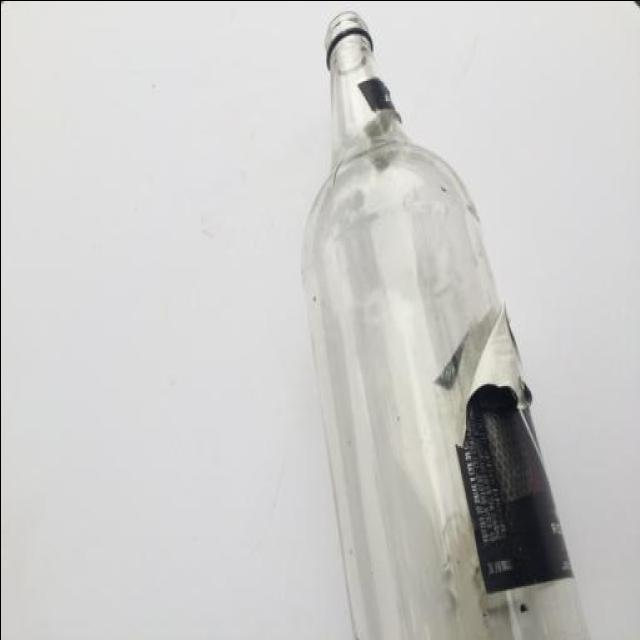glass: (298, 0, 590, 640)
